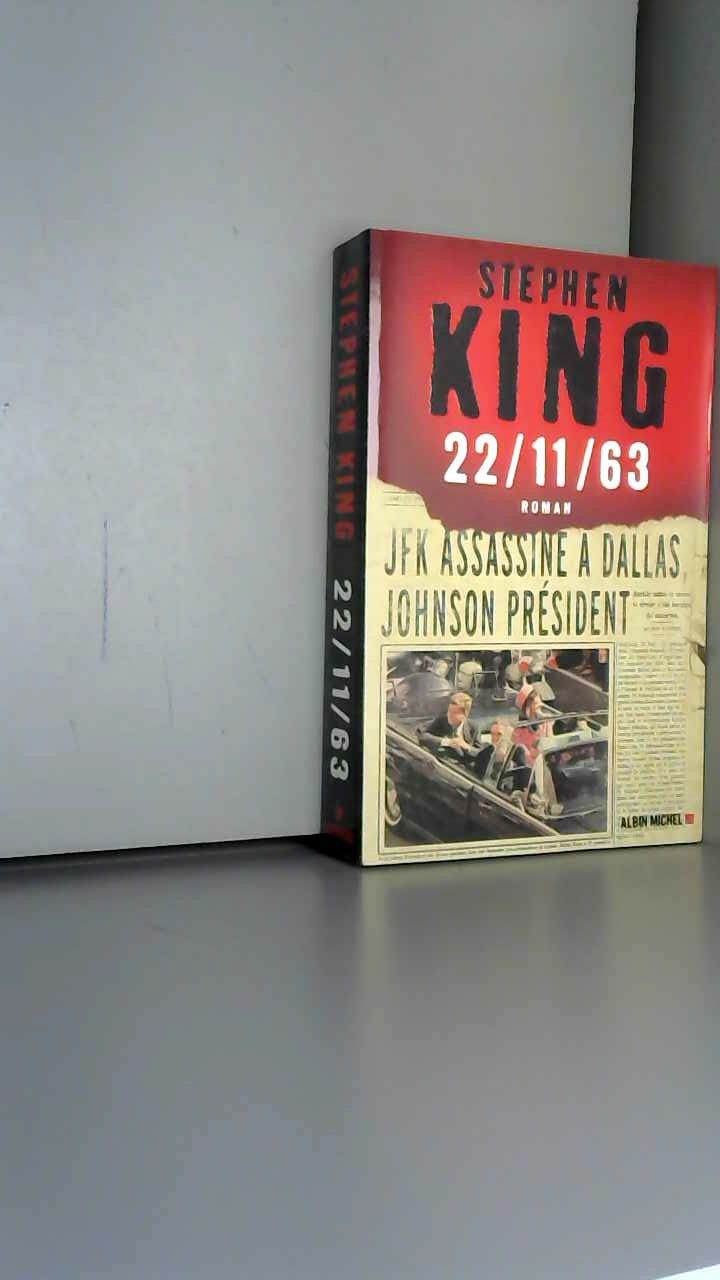book: (300, 200, 720, 889)
